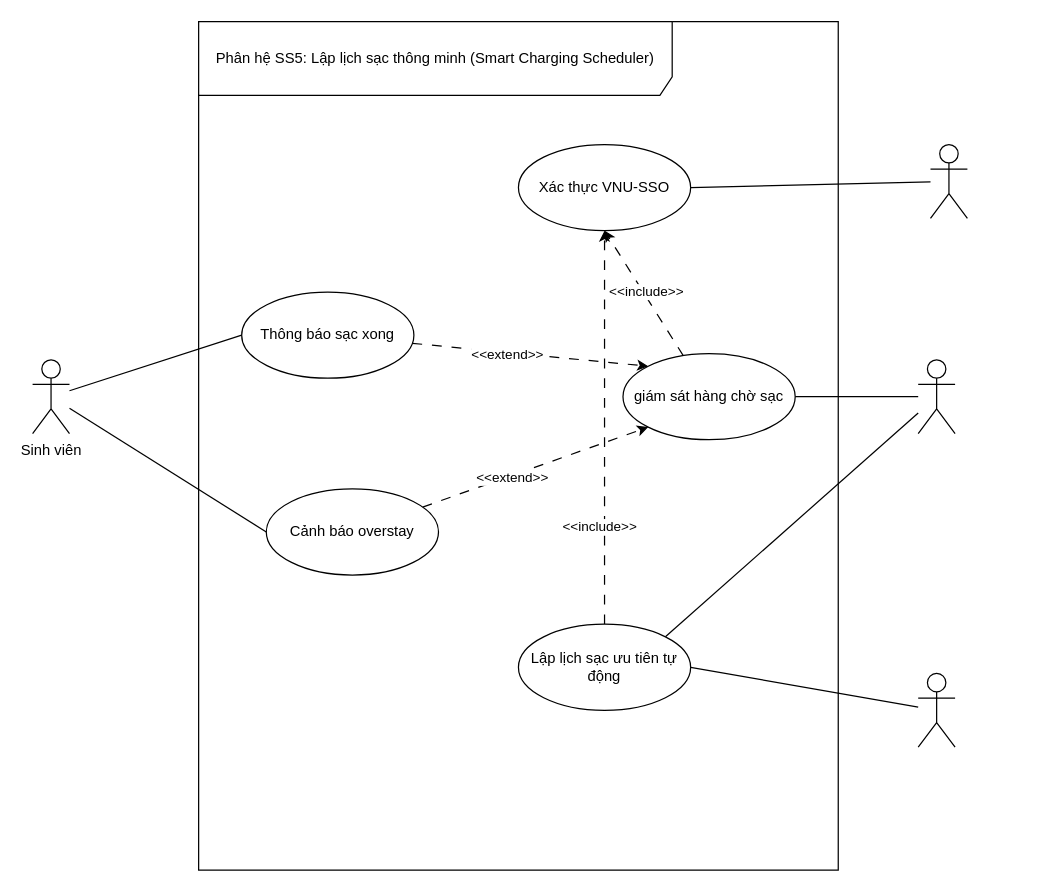
The diagram is 1043 pixels wide and 892 high, and some of its shapes have lost their labels. The shapes that lost their labels are listed below. From the top down, each one's centre as x and y in pixels, then its label:
the point at 948,180: Cổng xác thực VNU-SSO
the point at 936,396: Chuyên viên sạc
the point at 936,709: Trạm sạc và cổng sạc IoT
